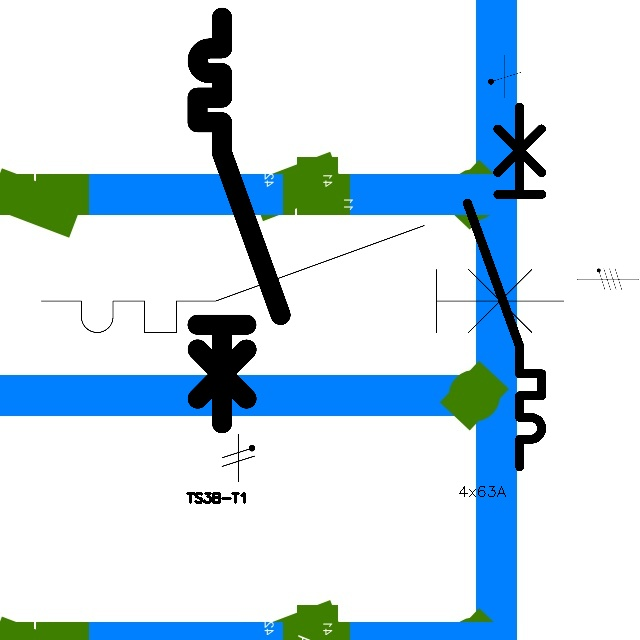interruptor_termomagnetico: (28, 212, 577, 346), (187, 7, 291, 433), (458, 97, 551, 476)
